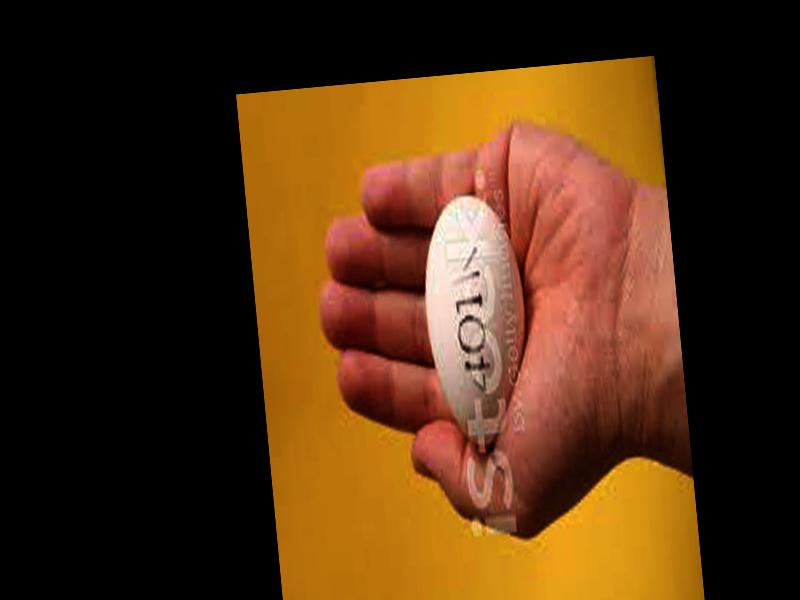Eggs: (416, 191, 535, 450)
